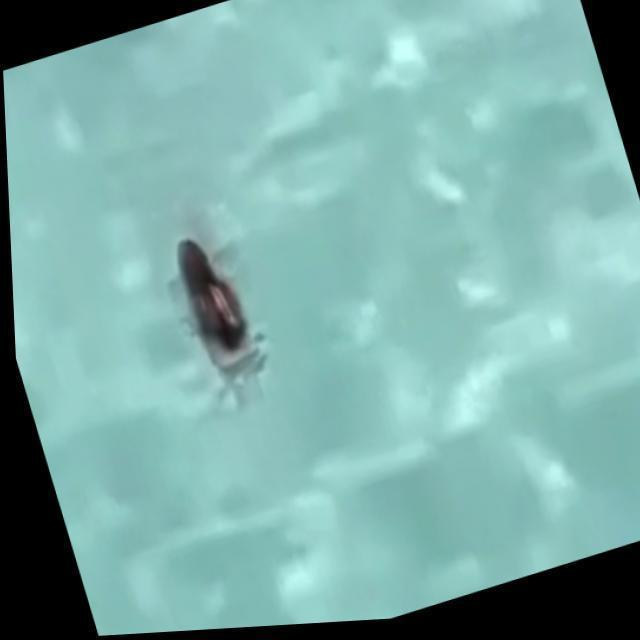swimming: (158, 230, 308, 425)
